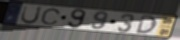3: (116, 13, 136, 34)
9: (67, 8, 88, 29), (90, 11, 110, 32)
C: (39, 8, 62, 26)
D: (135, 15, 158, 35)
U: (19, 4, 44, 25)
